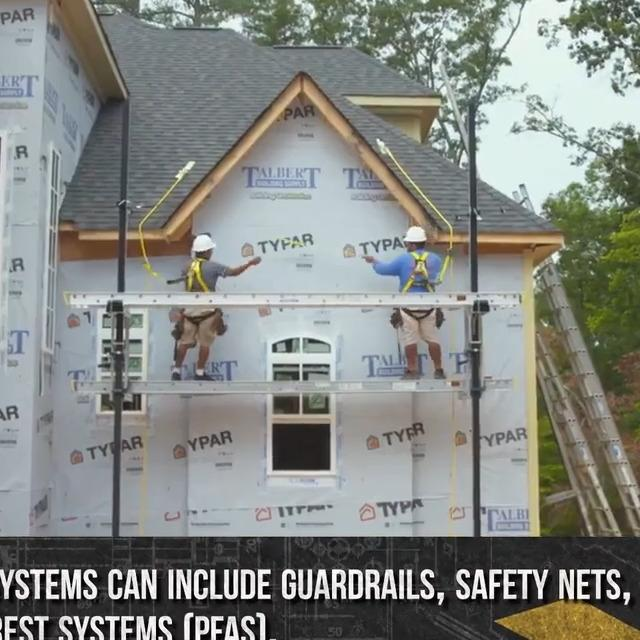Hardhat: (192, 235, 216, 252), (403, 227, 427, 242)
Ladder: (511, 182, 640, 537), (535, 326, 622, 536)
NO-Mask: (205, 254, 212, 260), (407, 246, 412, 252)
NO-Safety Vest: (400, 250, 437, 292), (184, 259, 217, 291)
Person: (361, 226, 447, 380), (172, 234, 262, 380)
